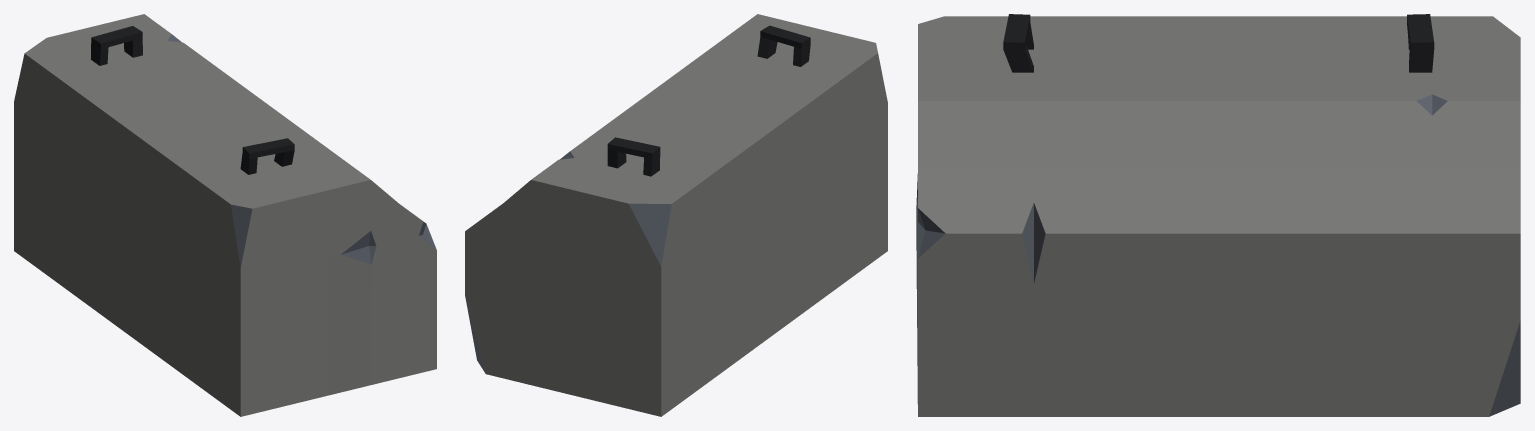
Rendered from SM_Concrete_block.fbx.
3 views of the same model, side by side, from view 1: azimuth 30°, elevation 25°; view 2: azimuth 150°, elevation 25°; view 3: azimuth 270°, elevation 25° (orthographic). The views are drawn at different scales.
Parts seen in each view (by area): view 1: SM_Concrete_block; view 2: SM_Concrete_block; view 3: SM_Concrete_block.
Part boxes in pixels (bbox=[...]): SM_Concrete_block: bbox=[14, 14, 436, 416]; SM_Concrete_block: bbox=[465, 14, 887, 416]; SM_Concrete_block: bbox=[916, 14, 1520, 416].
Size of the model in its own units: 60 by 66.65 by 120.
